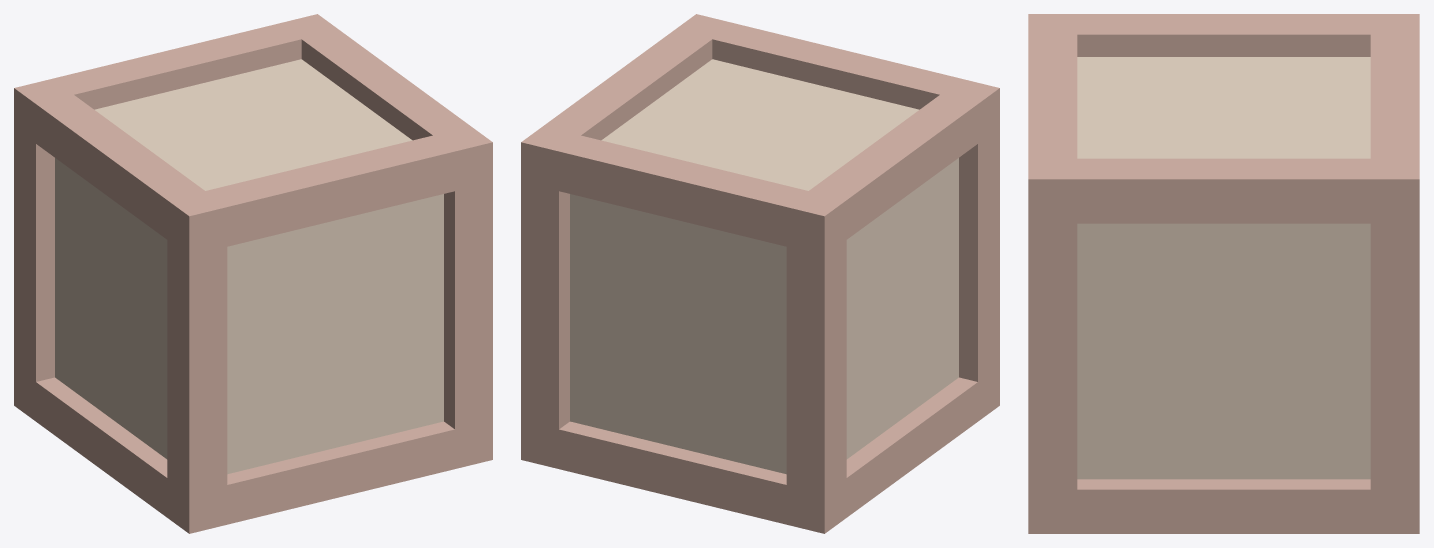
Rendered from Crate.fbx.
The picture shows the model from 3 angles, left to right: view 1: azimuth 30°, elevation 25°; view 2: azimuth 150°, elevation 25°; view 3: azimuth 270°, elevation 25°; orthographic projection. The views are drawn at different scales.
Visible parts, largest first — view 1: Crate; view 2: Crate; view 3: Crate.
Boxes of the visible parts, x1,y1,x2,y2 form: Crate: [14, 14, 492, 533]; Crate: [521, 14, 999, 533]; Crate: [1028, 14, 1419, 533].
Size of the model in its own units: 1 by 1 by 1.
